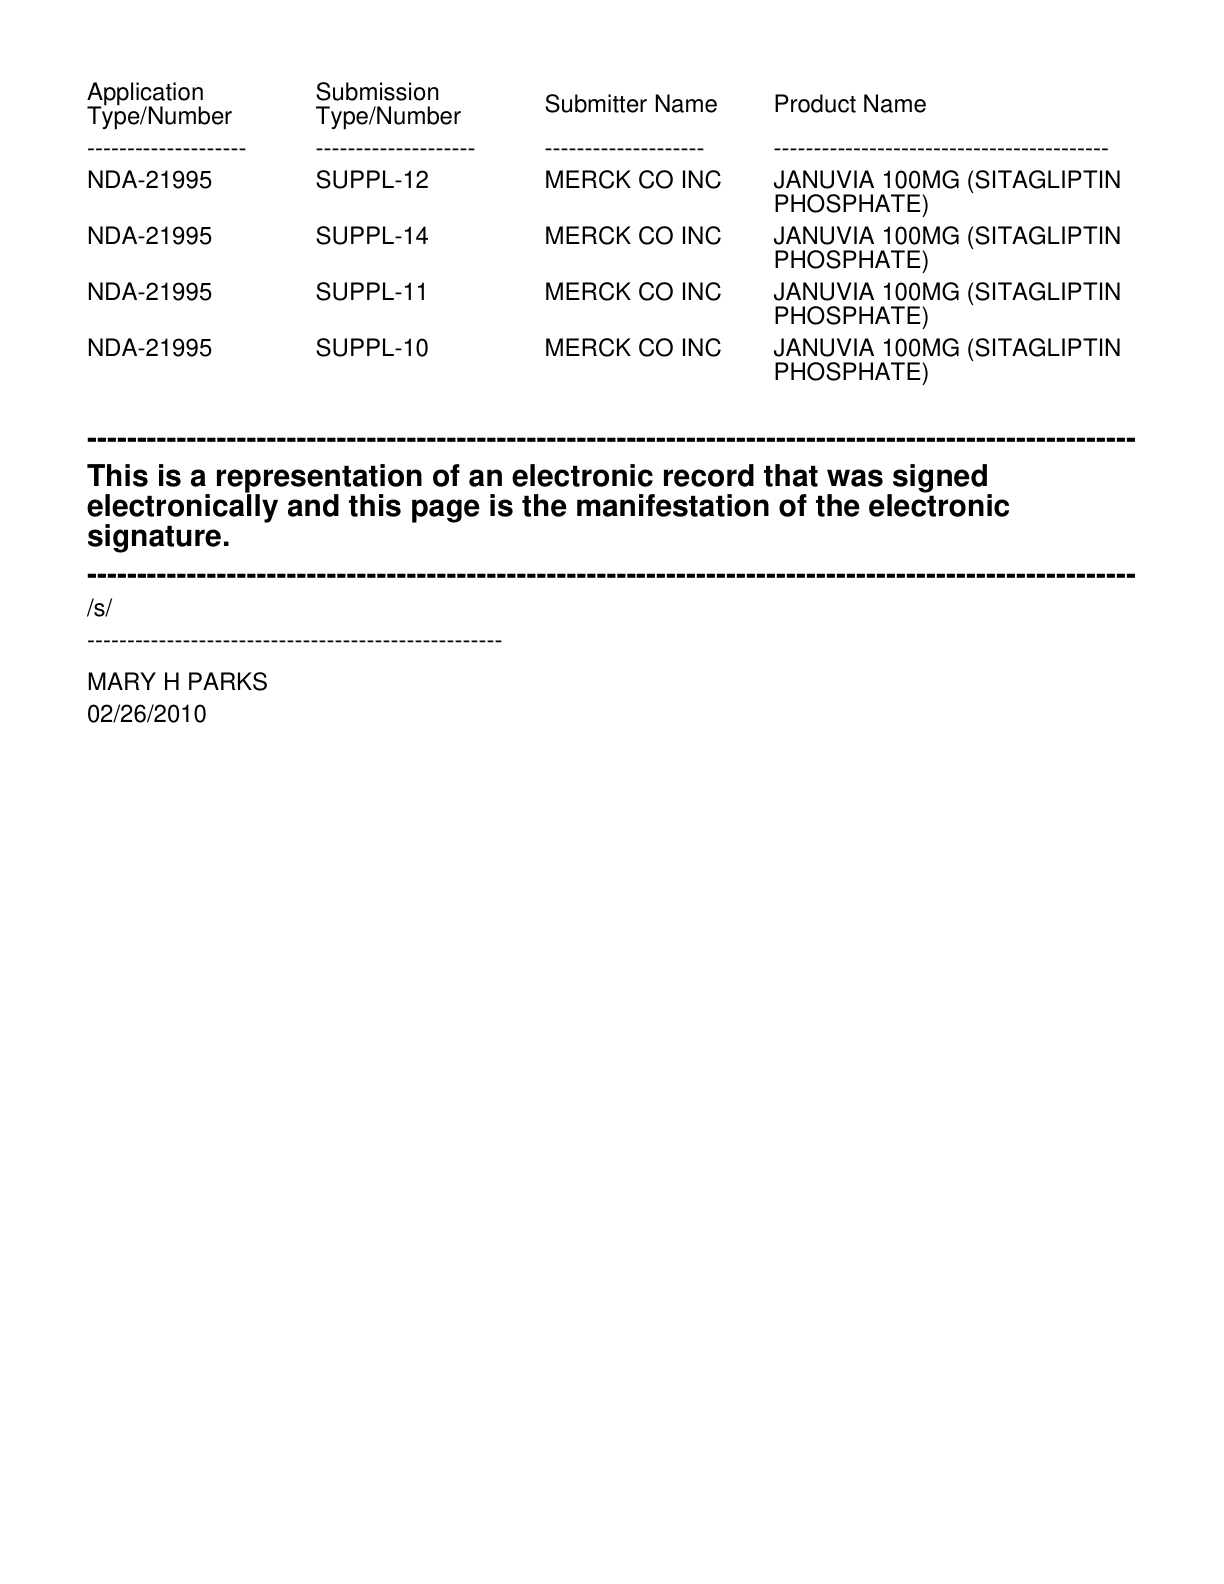nolines: (84, 75, 1124, 383)
